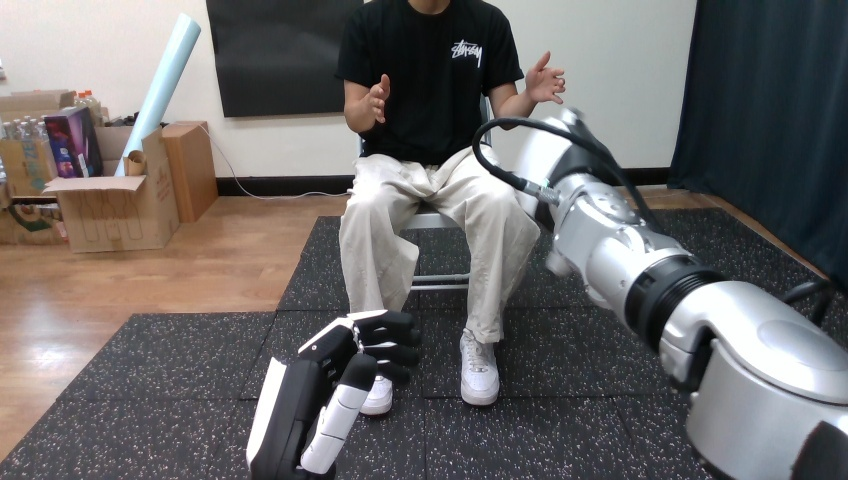left robot hand: (473, 110, 847, 478), (246, 310, 419, 479), (523, 51, 564, 105)
